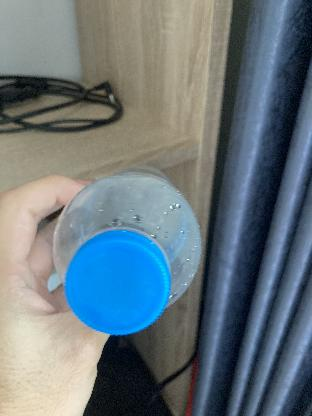Plastic Bottle: (52, 157, 204, 337)
